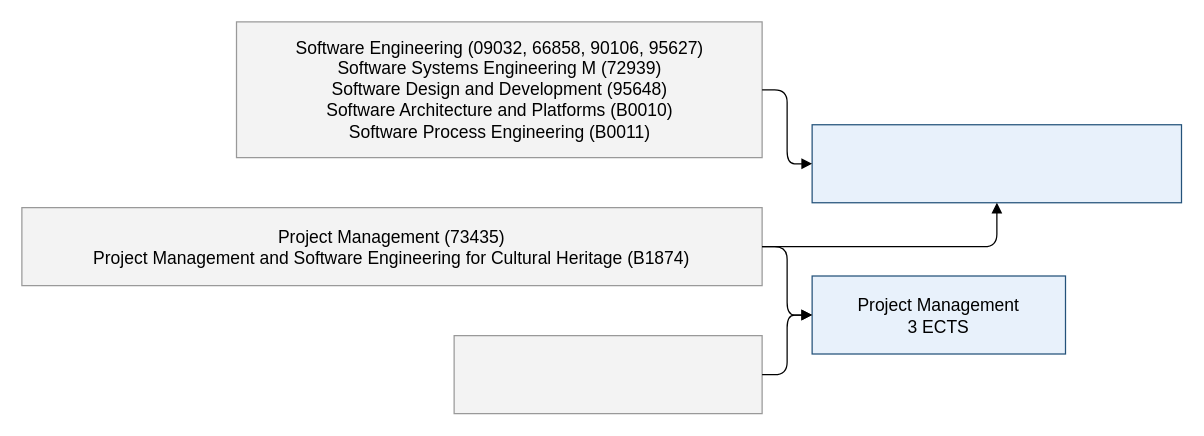
Some shapes in this 1204 by 436 pixel diagram are drawn without their labels. Here are the shapes that lost their labels. From the top down, the centre of each, then its label:
point (996, 163): Project Risk and Software Quality 3 ECTS
point (607, 374): Data Base Sistems (09679) Humanistic IT (27311)
